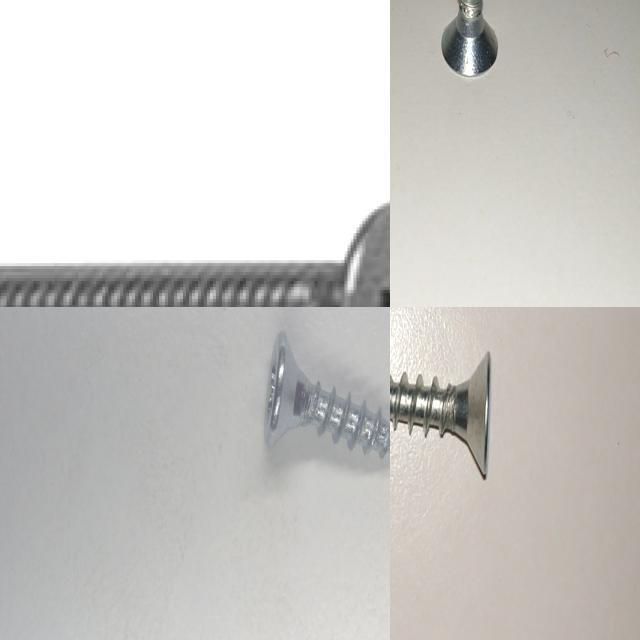Screw: (0, 204, 390, 307), (262, 327, 390, 460), (390, 352, 491, 478), (441, 0, 498, 76)
